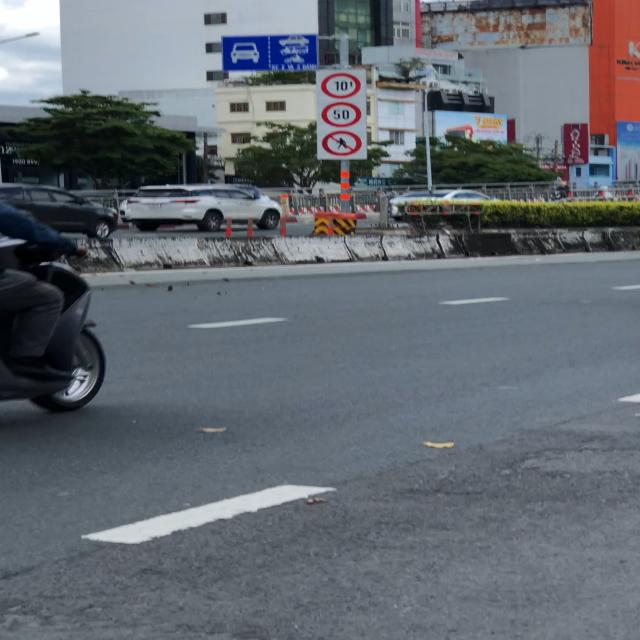Bien bao cam nguoi di bo: (319, 128, 366, 156)
Bien bao toc do toi da cho phep: (318, 101, 364, 128)
